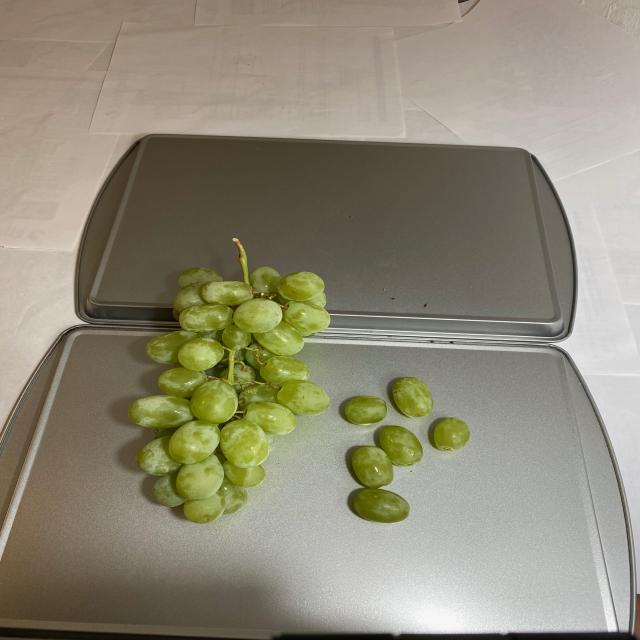grapes: (125, 236, 471, 534), (124, 233, 333, 534), (336, 372, 472, 526)
